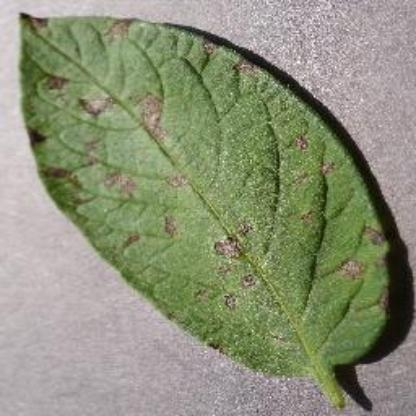Early-Blight: (13, 10, 392, 404)
